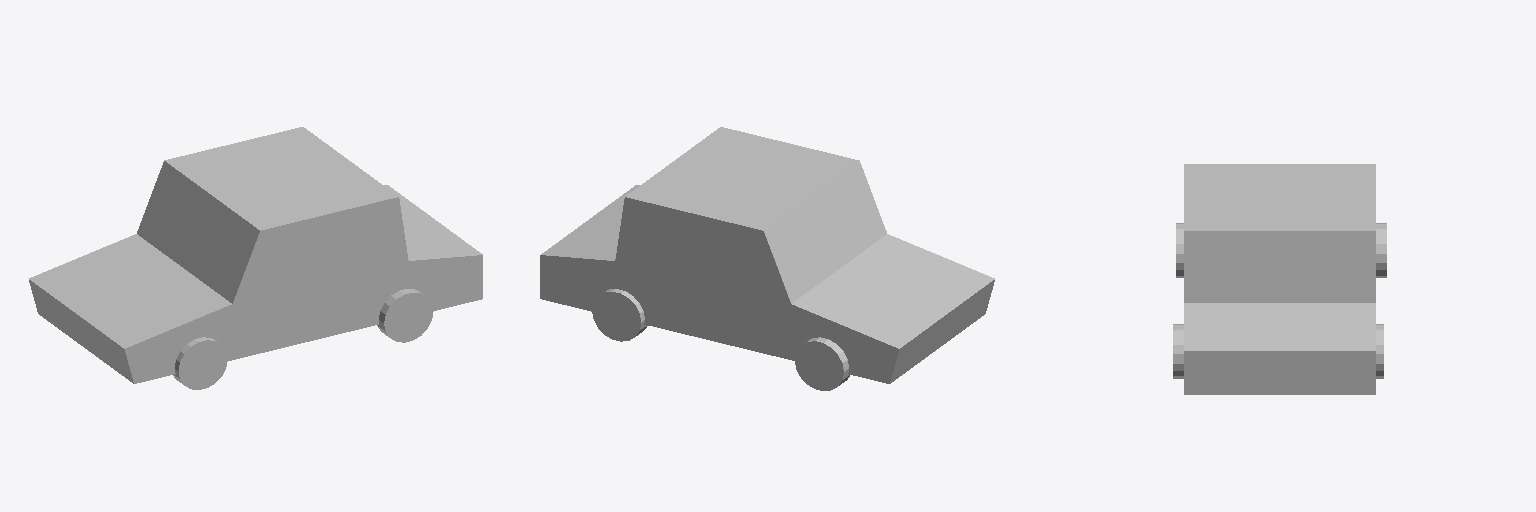
File: car1.obj
3 views of the same model, side by side, from view 1: azimuth 30°, elevation 25°; view 2: azimuth 150°, elevation 25°; view 3: azimuth 270°, elevation 25° (orthographic).
Visible parts, largest first — view 1: Car_04_Car_04_CAR_07; view 2: Car_04_Car_04_CAR_07; view 3: Car_04_Car_04_CAR_07.
Part boxes in pixels (x1,y1,x2,y2): Car_04_Car_04_CAR_07: (29, 127, 482, 389); Car_04_Car_04_CAR_07: (540, 127, 994, 390); Car_04_Car_04_CAR_07: (1173, 164, 1386, 394).
Bounding box in the file's own units: 22.96 × 8.68 × 11.82.